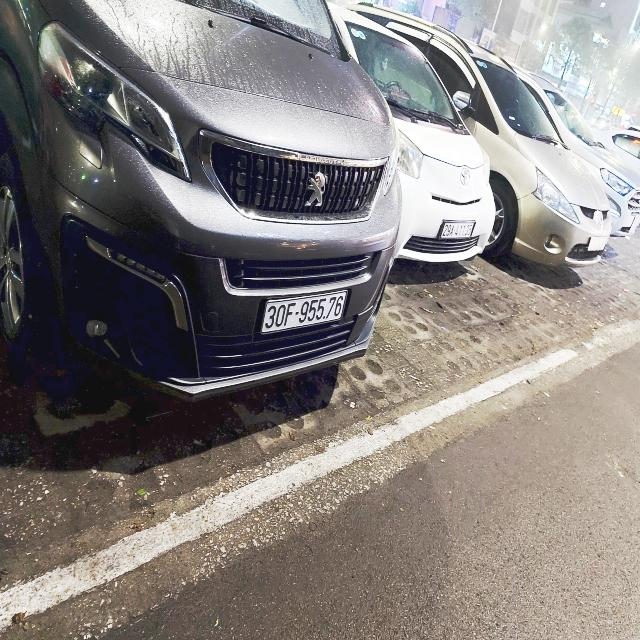license_plate: (261, 290, 349, 336)
